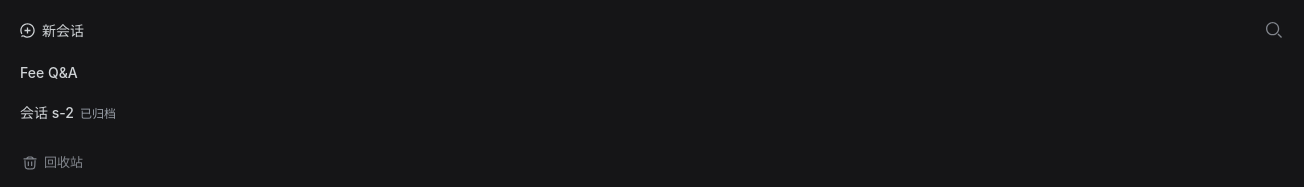
Test: SessionList › keeps search collapsed behind the icon and searches when activated
This screenshot has width=1304, height=187.
Expected: the text "Fee Q&A" is shown, [20,62,78,82]
Click the button named "搜索会话". click: (1274, 30)
box: [1256,12,1292,48]
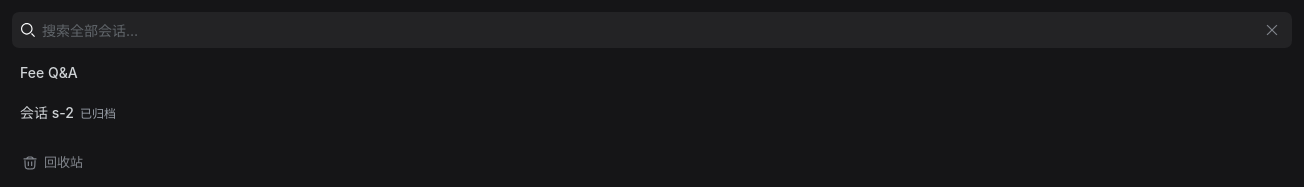
Expected: the button "新会话" is gone
Expected: the button named "关闭搜索" is shown, [1258,16,1286,44]
Type "fees" into the field named "搜索会话内容". click: (646, 30)
box: [42,12,1251,48]
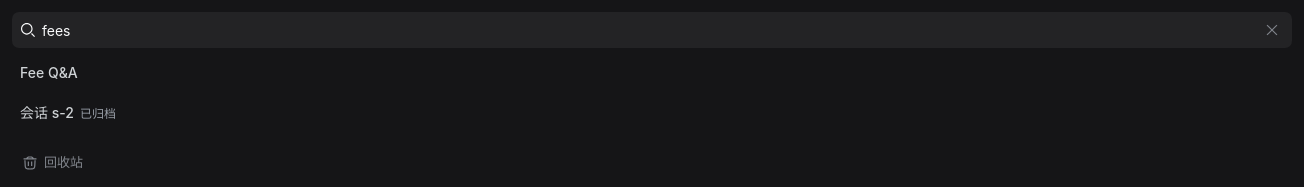
Submit the form named "搜索会话内容", box [12,12,1292,48]
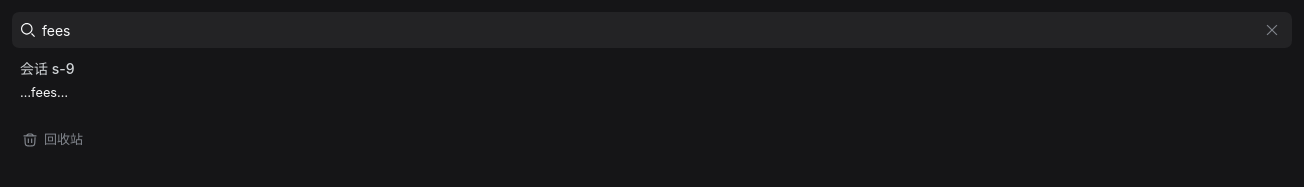
Expected: the text "…fees…" is shown, [20,85,68,100]
